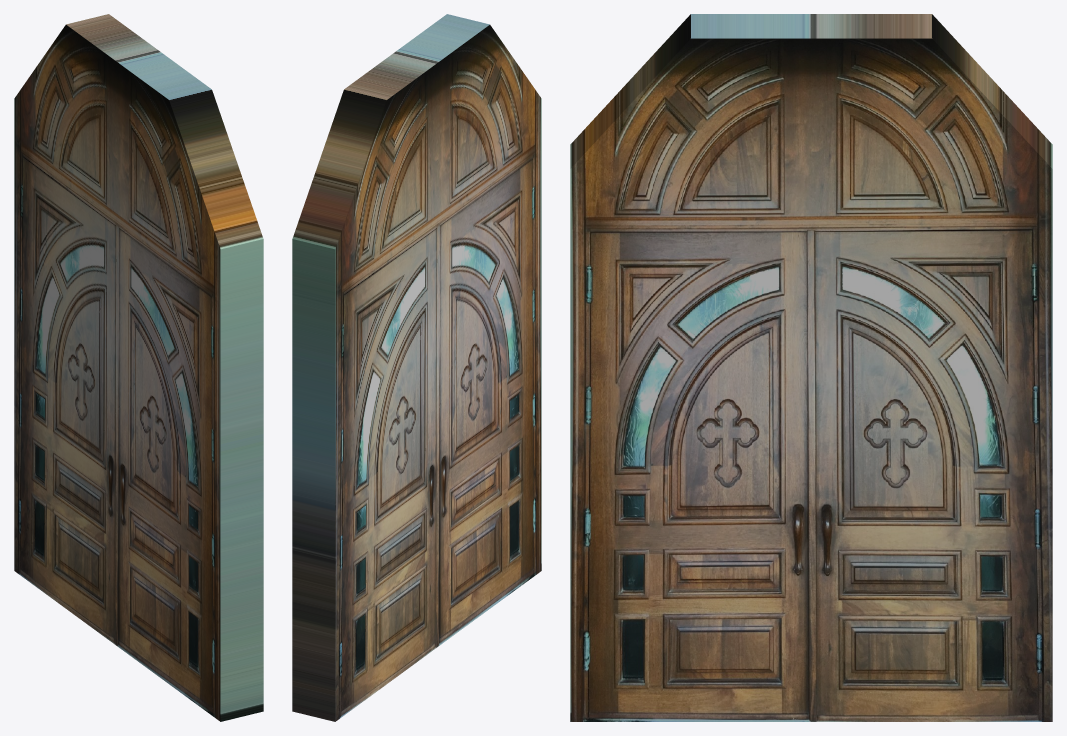
The model's file is churchdoor_v1.fbx.
The picture shows the model from 3 angles, left to right: view 1: azimuth 30°, elevation 25°; view 2: azimuth 150°, elevation 25°; view 3: azimuth 270°, elevation 25°; orthographic projection. The views are drawn at different scales.
Parts seen in each view (by area): view 1: pCube1; view 2: pCube1; view 3: pCube1.
Part boxes in pixels (x1,y1,x2,y2): pCube1: (14,14,263,721); pCube1: (292,14,541,721); pCube1: (570,14,1052,721).
Bounding box in the file's own units: 1.28 × 16.72 × 10.69.
